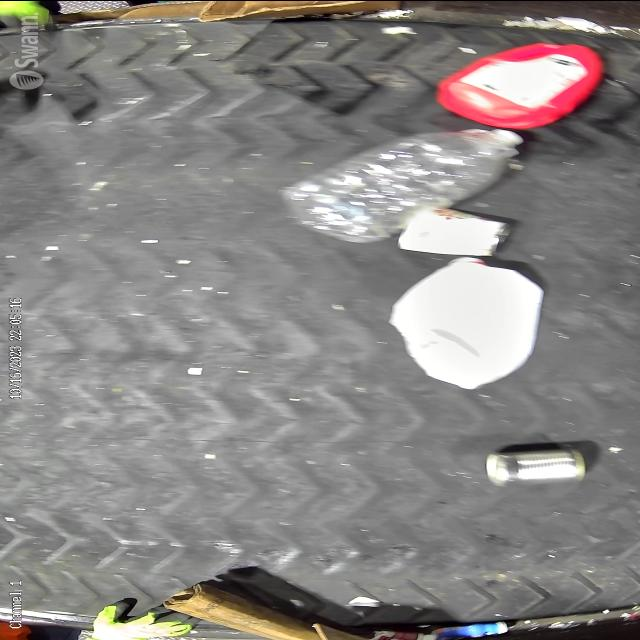can: (397, 206, 512, 256), (486, 448, 586, 483)
milk_jug: (388, 256, 544, 388)
non_white_jug: (437, 41, 602, 128)
plastic_bottle: (280, 126, 523, 242)
